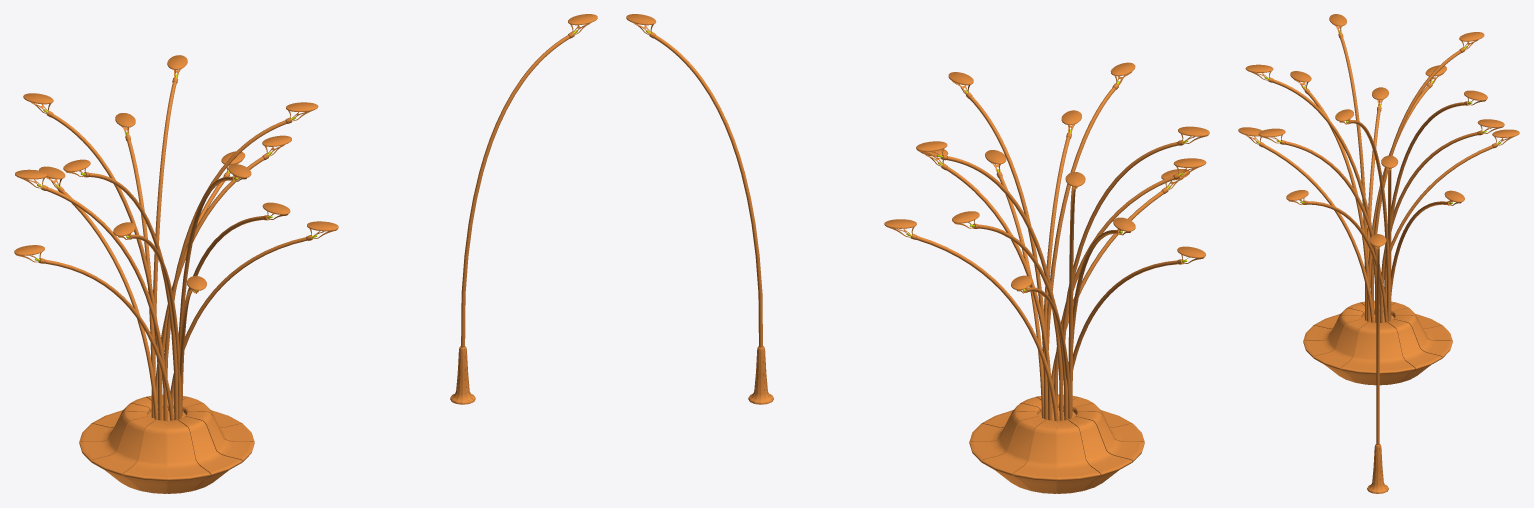
Rendered from lamp_1.fbx.
3 renders of one model, left to right at view 1: azimuth 30°, elevation 25°; view 2: azimuth 150°, elevation 25°; view 3: azimuth 270°, elevation 25°, orthographic. The views are drawn at different scales.
Visible parts, largest first — view 1: Lamp_2, Lamp_1; view 2: Lamp_2, Lamp_1; view 3: Lamp_2, Lamp_1.
Boxes of the visible parts, x1,y1,x2,y2 form: Lamp_2: [14, 55, 338, 493]; Lamp_1: [450, 14, 597, 404]; Lamp_2: [884, 62, 1209, 493]; Lamp_1: [626, 14, 773, 404]; Lamp_2: [1238, 14, 1519, 385]; Lamp_1: [1367, 234, 1388, 493].
Size of the model in its own units: 784 by 454 by 386.
